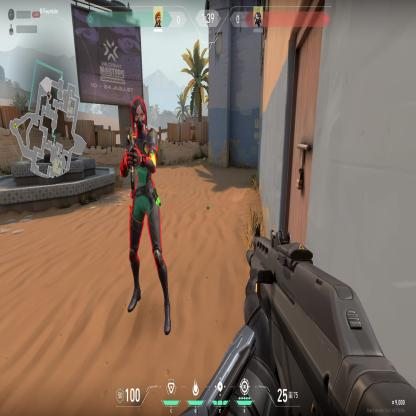enemy: (118, 93, 174, 337)
